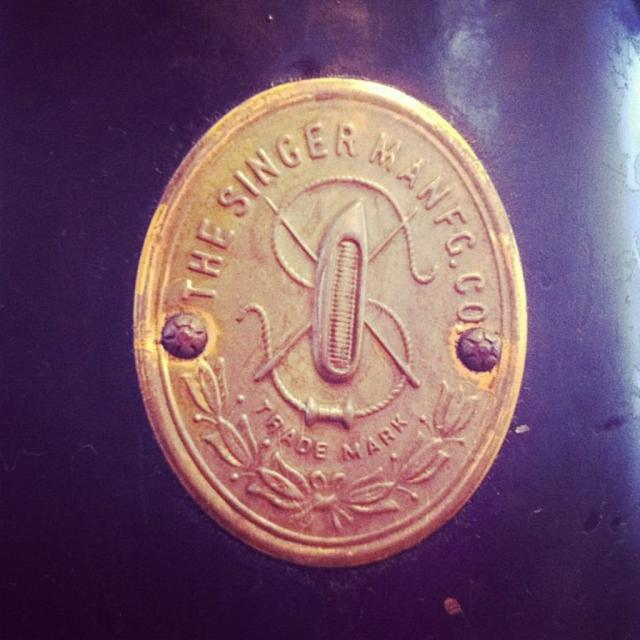Coin: (130, 73, 525, 573)
